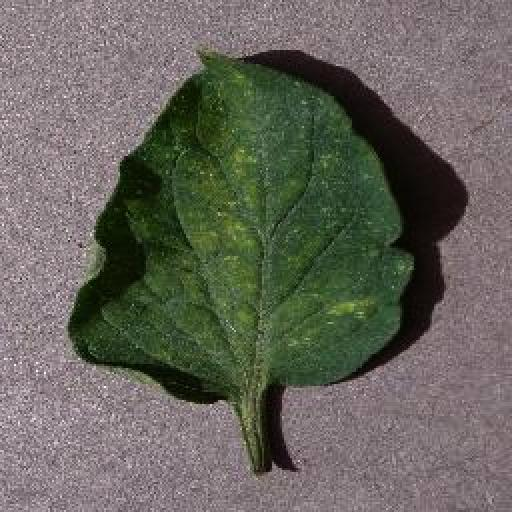disease_tomato: (64, 45, 420, 403)
